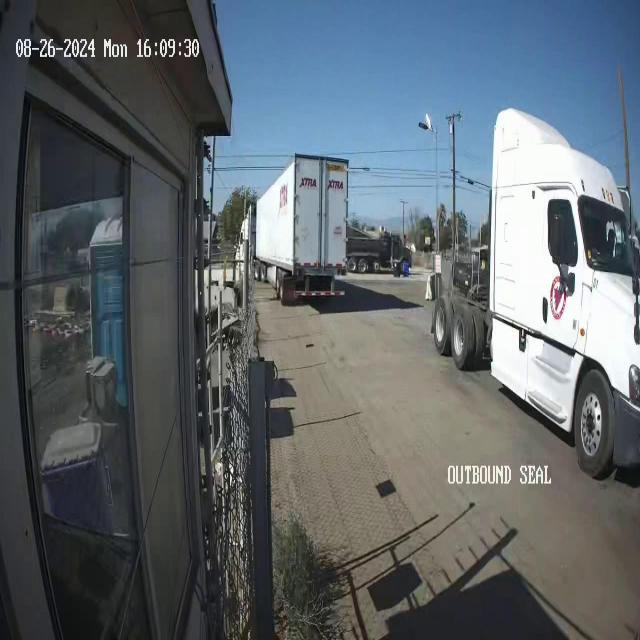TRUCK_IN: (431, 112, 637, 473)
TRUCK_OUT: (241, 153, 349, 313)
